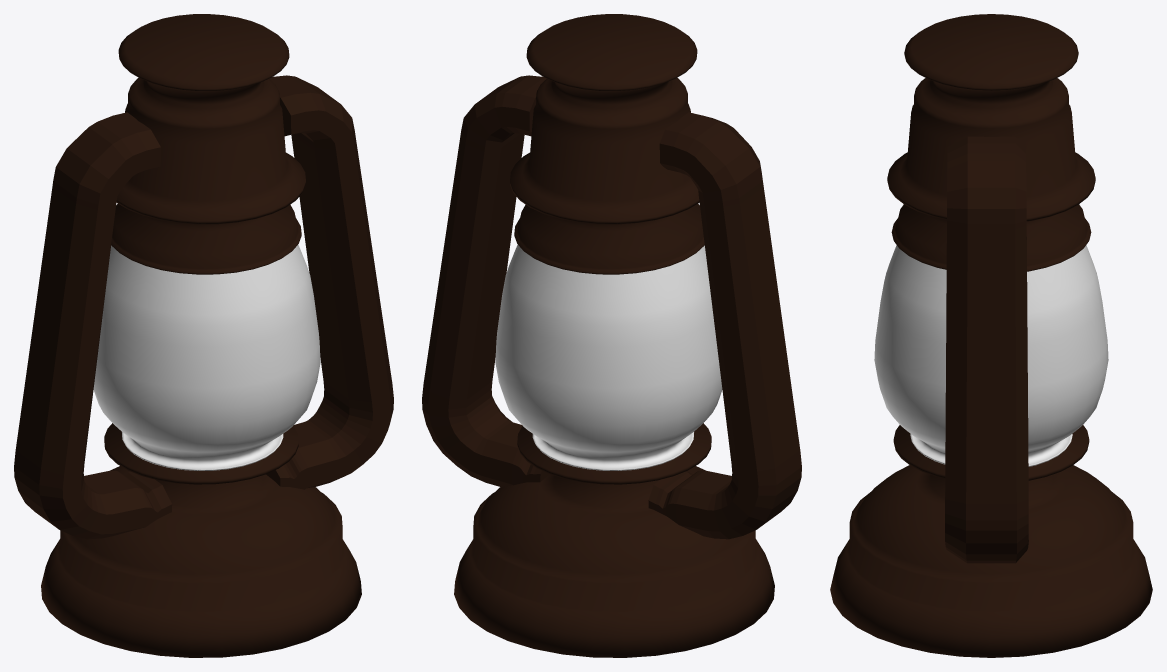
Rendered from oil light.fbx.
3 views of the same model, side by side, from view 1: azimuth 30°, elevation 25°; view 2: azimuth 150°, elevation 25°; view 3: azimuth 270°, elevation 25° (orthographic).
Visible parts, largest first — view 1: 立方体, 柱体.002, 柱体.001, 柱体.003; view 2: 立方体, 柱体.002, 柱体.001, 柱体.003; view 3: 柱体.002, 立方体, 柱体.003, 柱体.001.
Part boxes in pixels (x1,y1,x2,y2): 立方体: [14, 75, 393, 539]; 柱体.002: [41, 423, 361, 657]; 柱体.001: [93, 244, 320, 470]; 柱体.003: [111, 14, 305, 274]; 立方体: [422, 75, 801, 539]; 柱体.002: [454, 423, 774, 657]; 柱体.001: [495, 244, 722, 470]; 柱体.003: [510, 14, 704, 274]; 柱体.002: [830, 425, 1152, 657]; 立方体: [945, 136, 1028, 563]; 柱体.003: [887, 14, 1095, 271]; 柱体.001: [874, 245, 1108, 466].
Size of the model in its own units: 131 by 191 by 103.
